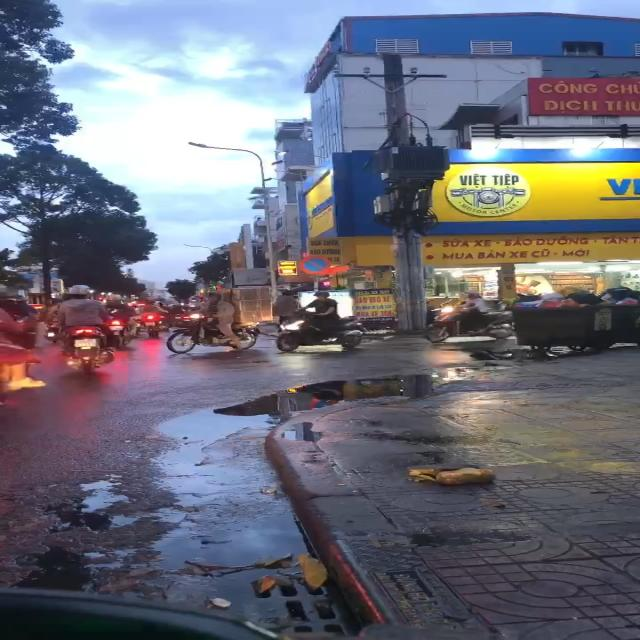Bien bao cam do xe: (295, 252, 335, 276)
